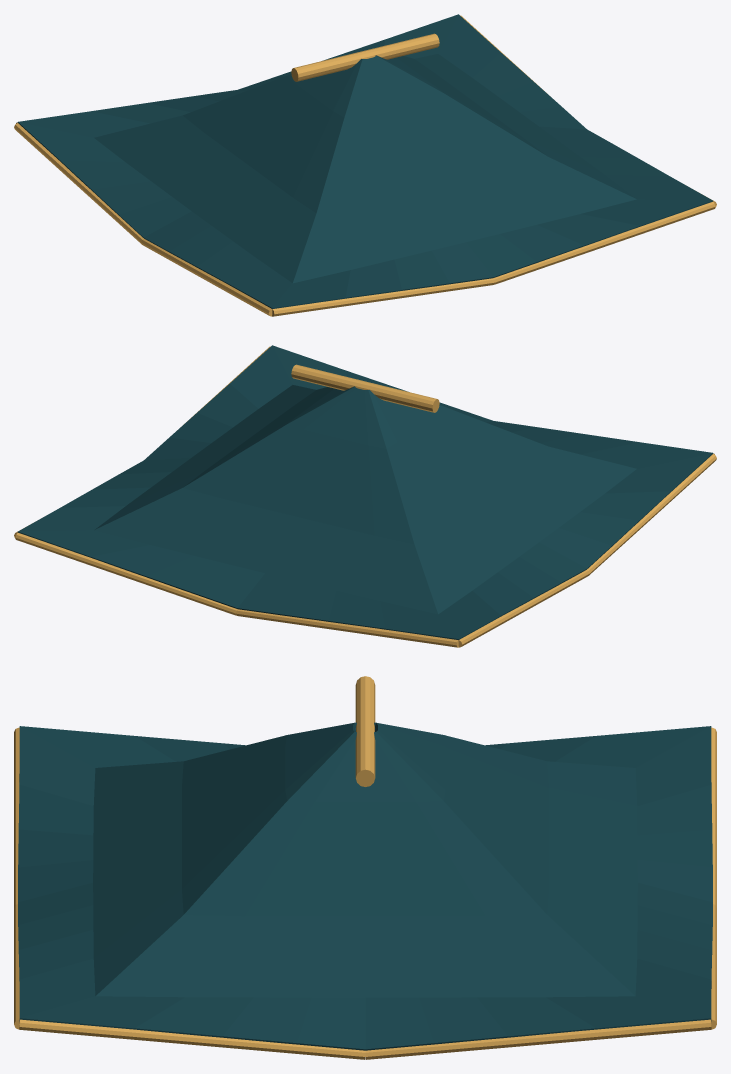
File: temple_roof.glb
3 renders of one model, top to bottom at view 1: azimuth 30°, elevation 25°; view 2: azimuth 150°, elevation 25°; view 3: azimuth 270°, elevation 25°, orthographic. The views are drawn at different scales.
Visible parts, largest first — view 1: Roof; view 2: Roof; view 3: Roof.
Boxes of the visible parts, bbox=[...] form: Roof: bbox=[14, 14, 716, 316]; Roof: bbox=[14, 345, 716, 647]; Roof: bbox=[14, 676, 716, 1059].
Bounding box in the file's own units: 10.16 × 3.04 × 10.16.
